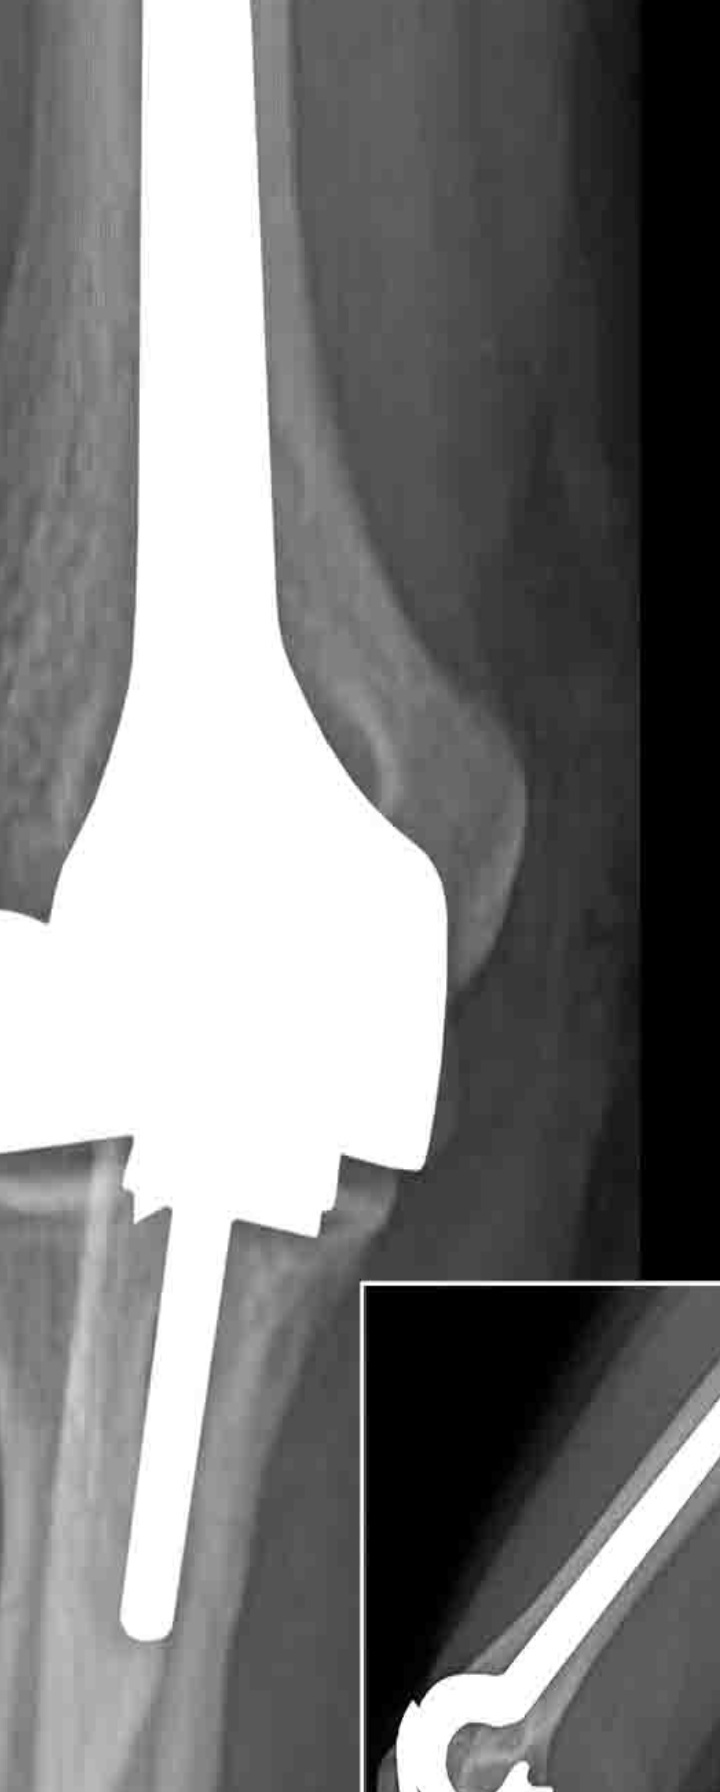Elbow - IBP - Biomet: (2, 1, 472, 1663), (381, 1333, 720, 1792)
